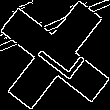L_NW: (26, 27, 84, 83)
